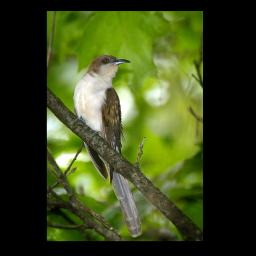Cuckoo: (72, 54, 143, 237)
